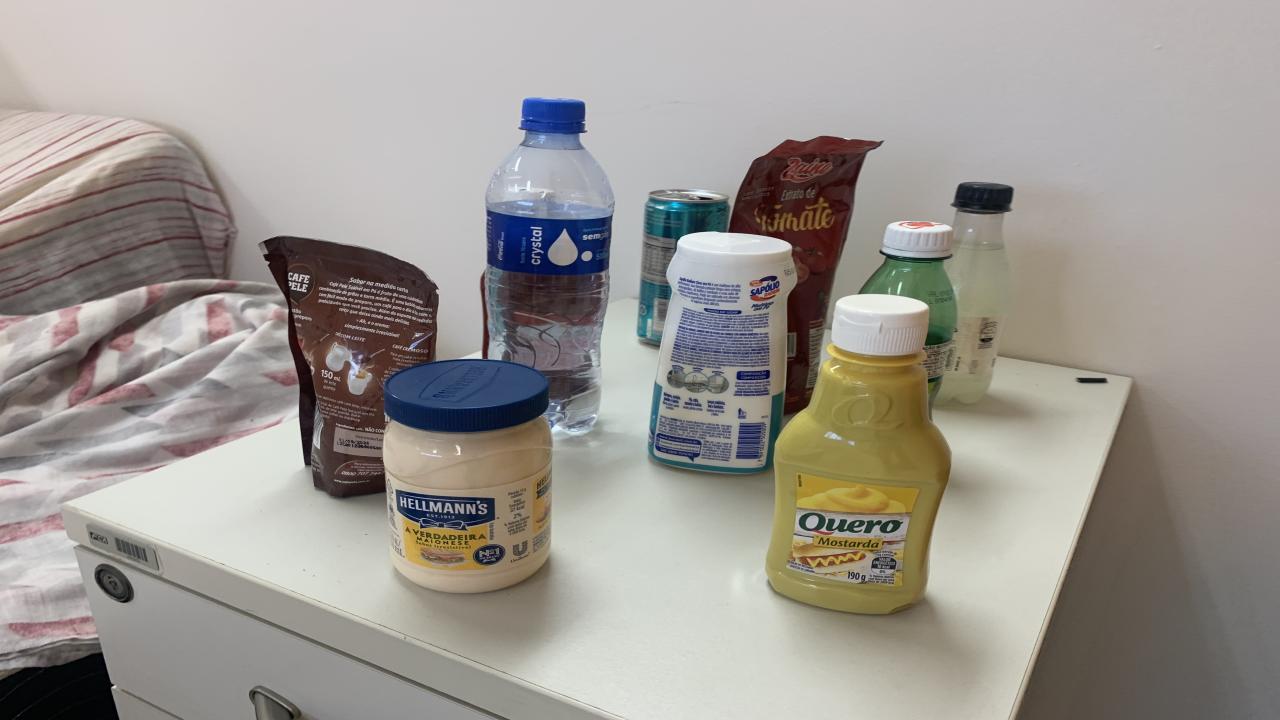Cleaner-Cleanup_Items: (648, 232, 795, 472)
Coffee-Pantry_Items: (260, 236, 438, 497)
Guarana-Drinks: (860, 219, 958, 405)
Ketchup-Pantry_Items: (480, 274, 490, 358)
Mayonnaise-Pantry_Items: (382, 360, 552, 592)
Mustard-Pantry_Items: (765, 294, 950, 615)
Soda-Drinks: (938, 182, 1012, 403)
Tea-Drinks: (638, 189, 730, 345)
Tomato_Sauce-Pantry_Items: (730, 137, 880, 412)
Water_Bottle-Drinks: (485, 98, 615, 435)
